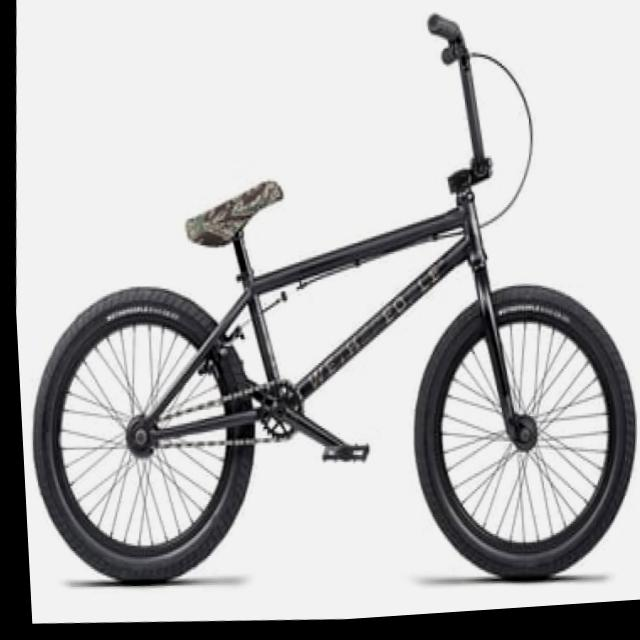bmx-bike: (3, 0, 640, 626)
